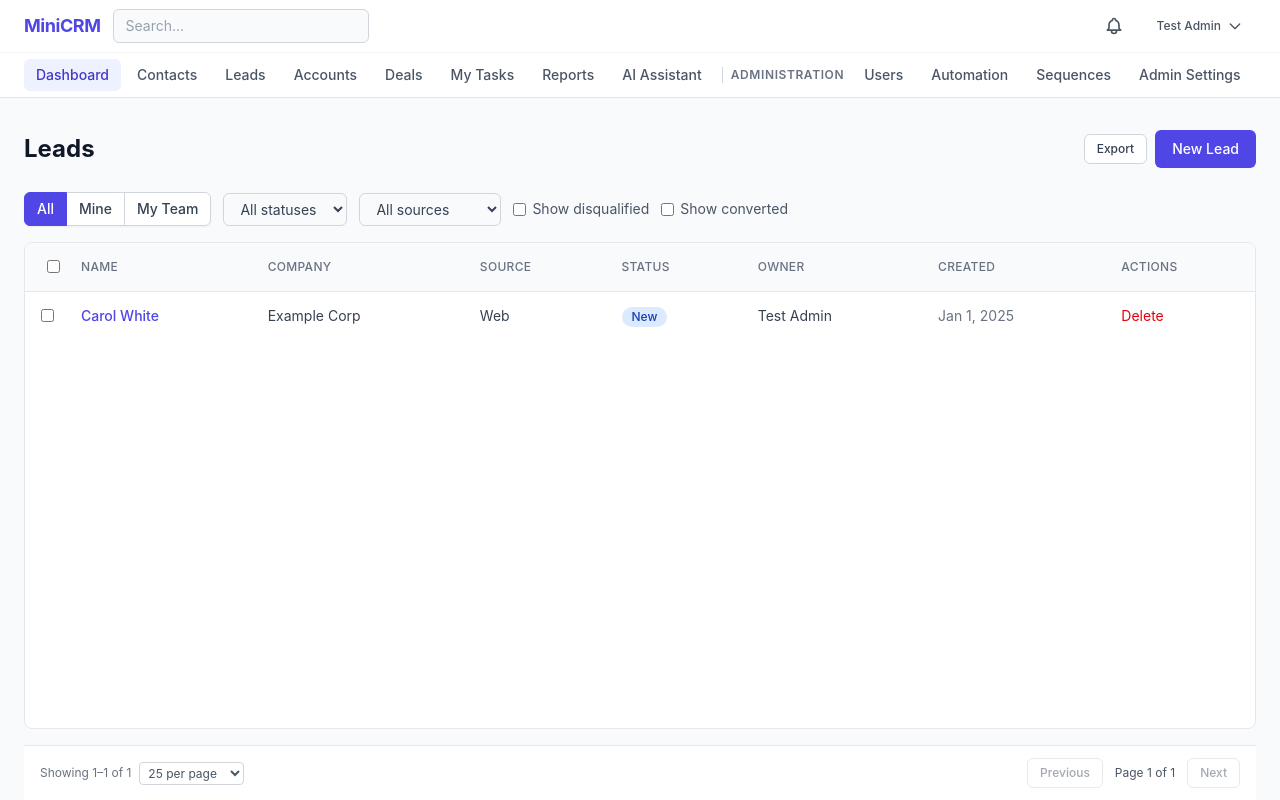
Test: CSV export buttons › renders the Export CSV and Export PDF buttons
What coordinates should you click on to do the following:
click the button with test id "leads-export-menu-button"
I would click on:
 (1115, 149)
Its box is [1084,134,1147,164].
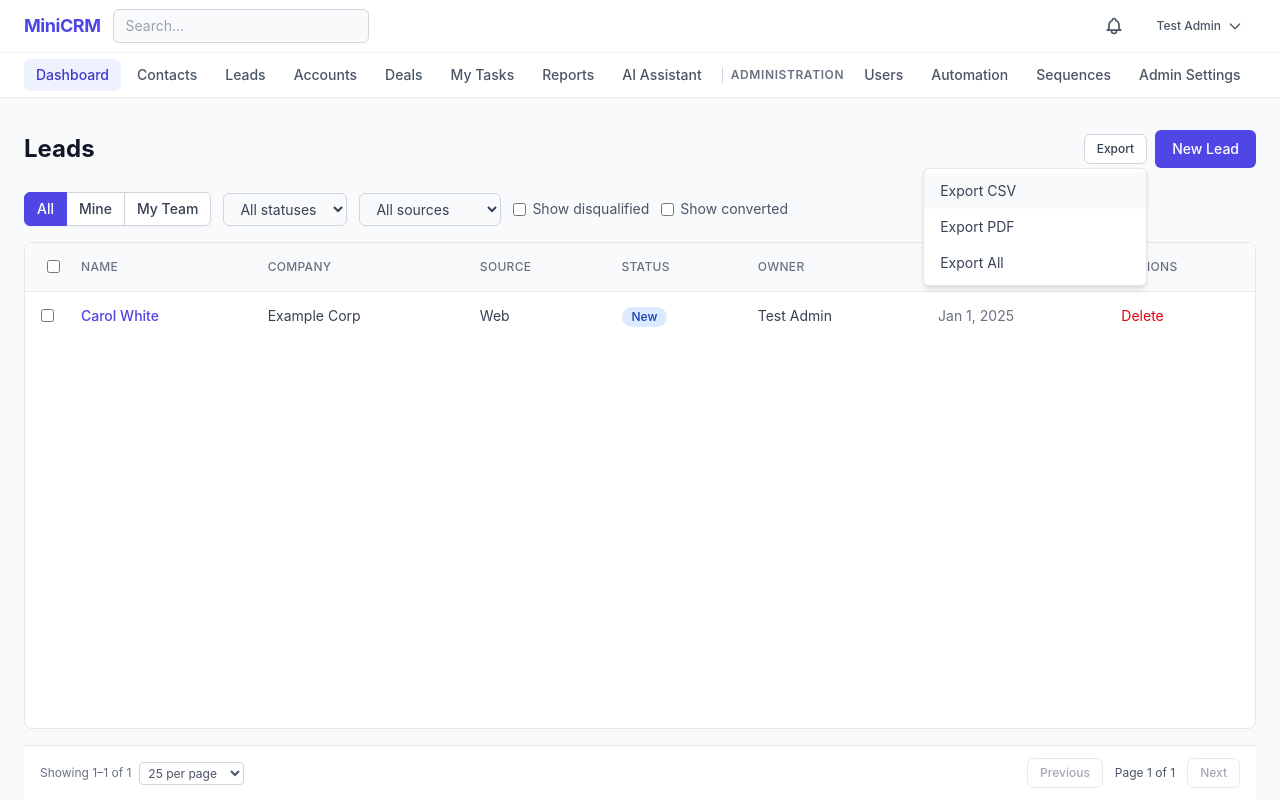
Check: the menu item with test id "leads-export-csv-button" is shown, box [924,173,1146,209]
Check: the menu item with test id "leads-export-pdf-button" is shown, box [924,209,1146,245]
